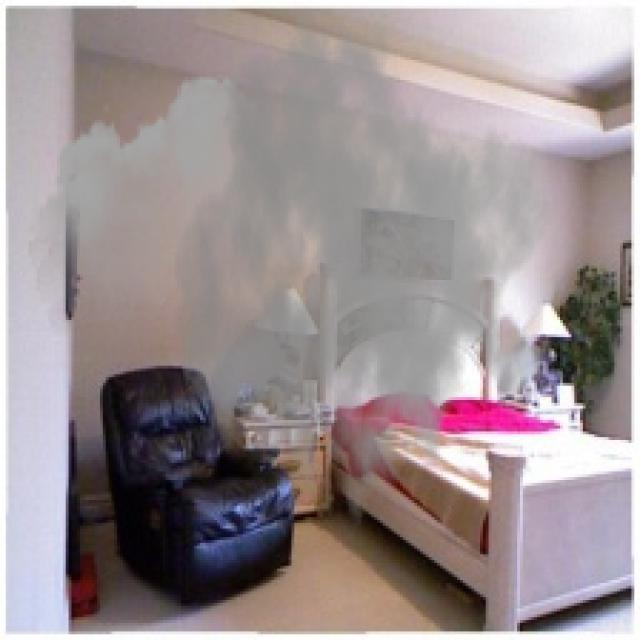smoke: (29, 6, 554, 551)
